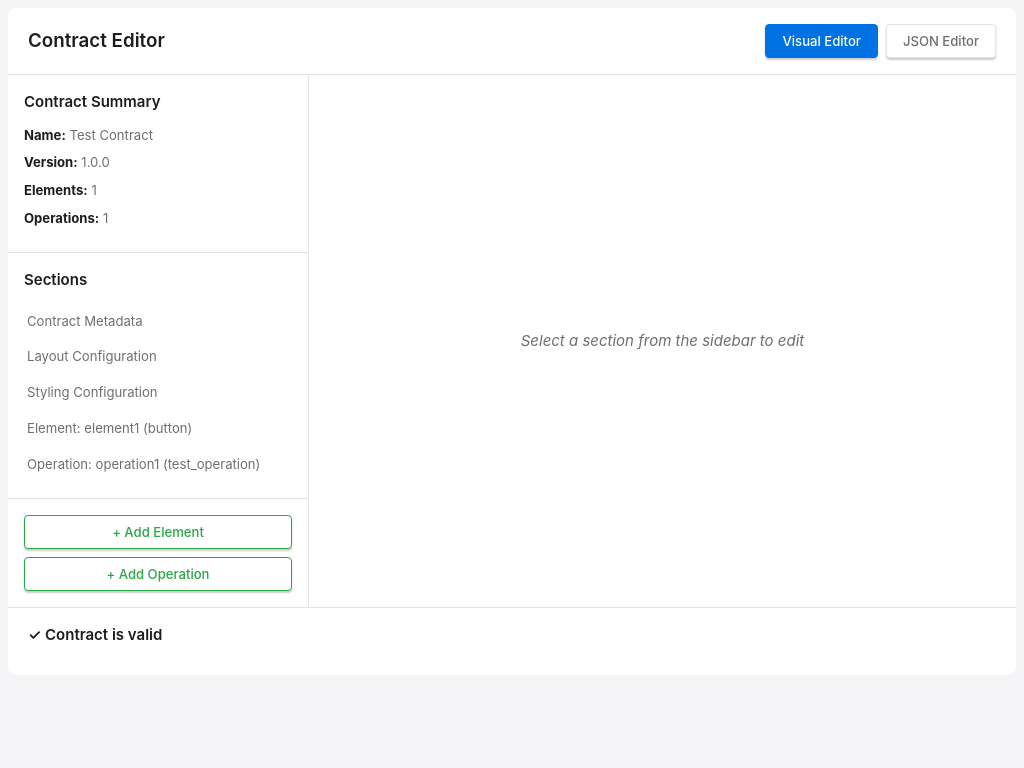
Scenario: ContractEditor › handles layout editing
Note: Select layout section
Click the text "Layout Configuration".
click(92, 356)  # box [27,348,157,364]
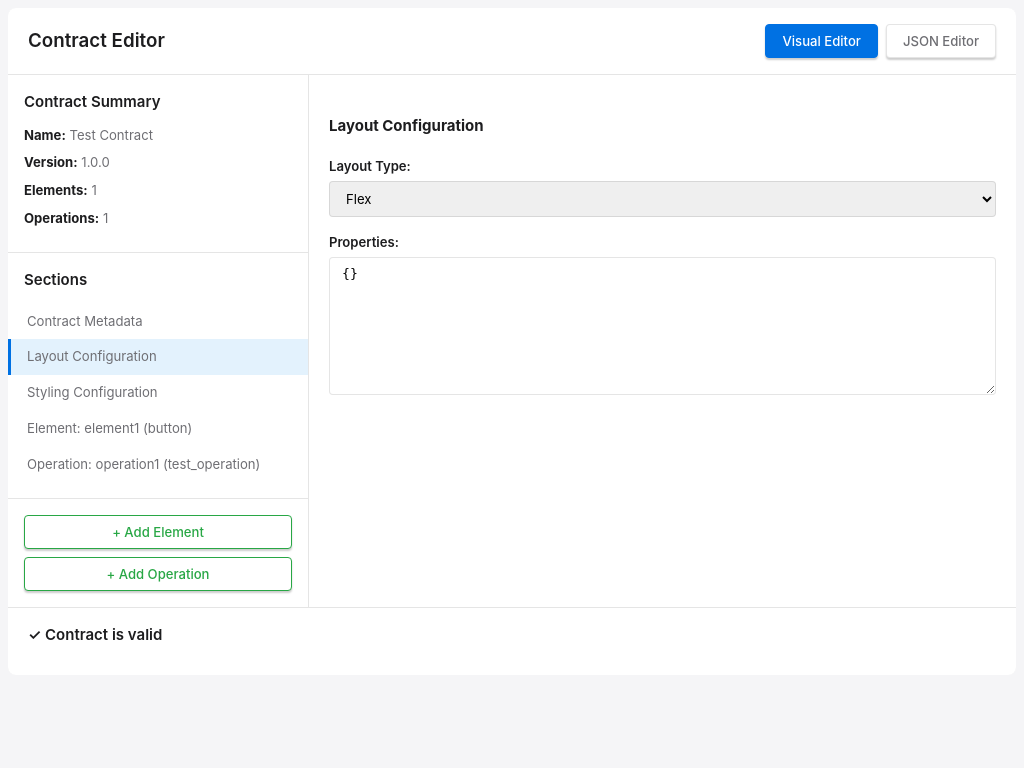
Now the dropdown labelled "Layout Type:" is shown, box [329,181,996,217]
